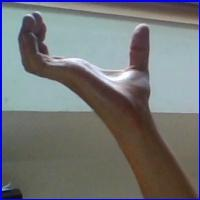space: (14, 6, 167, 122)
